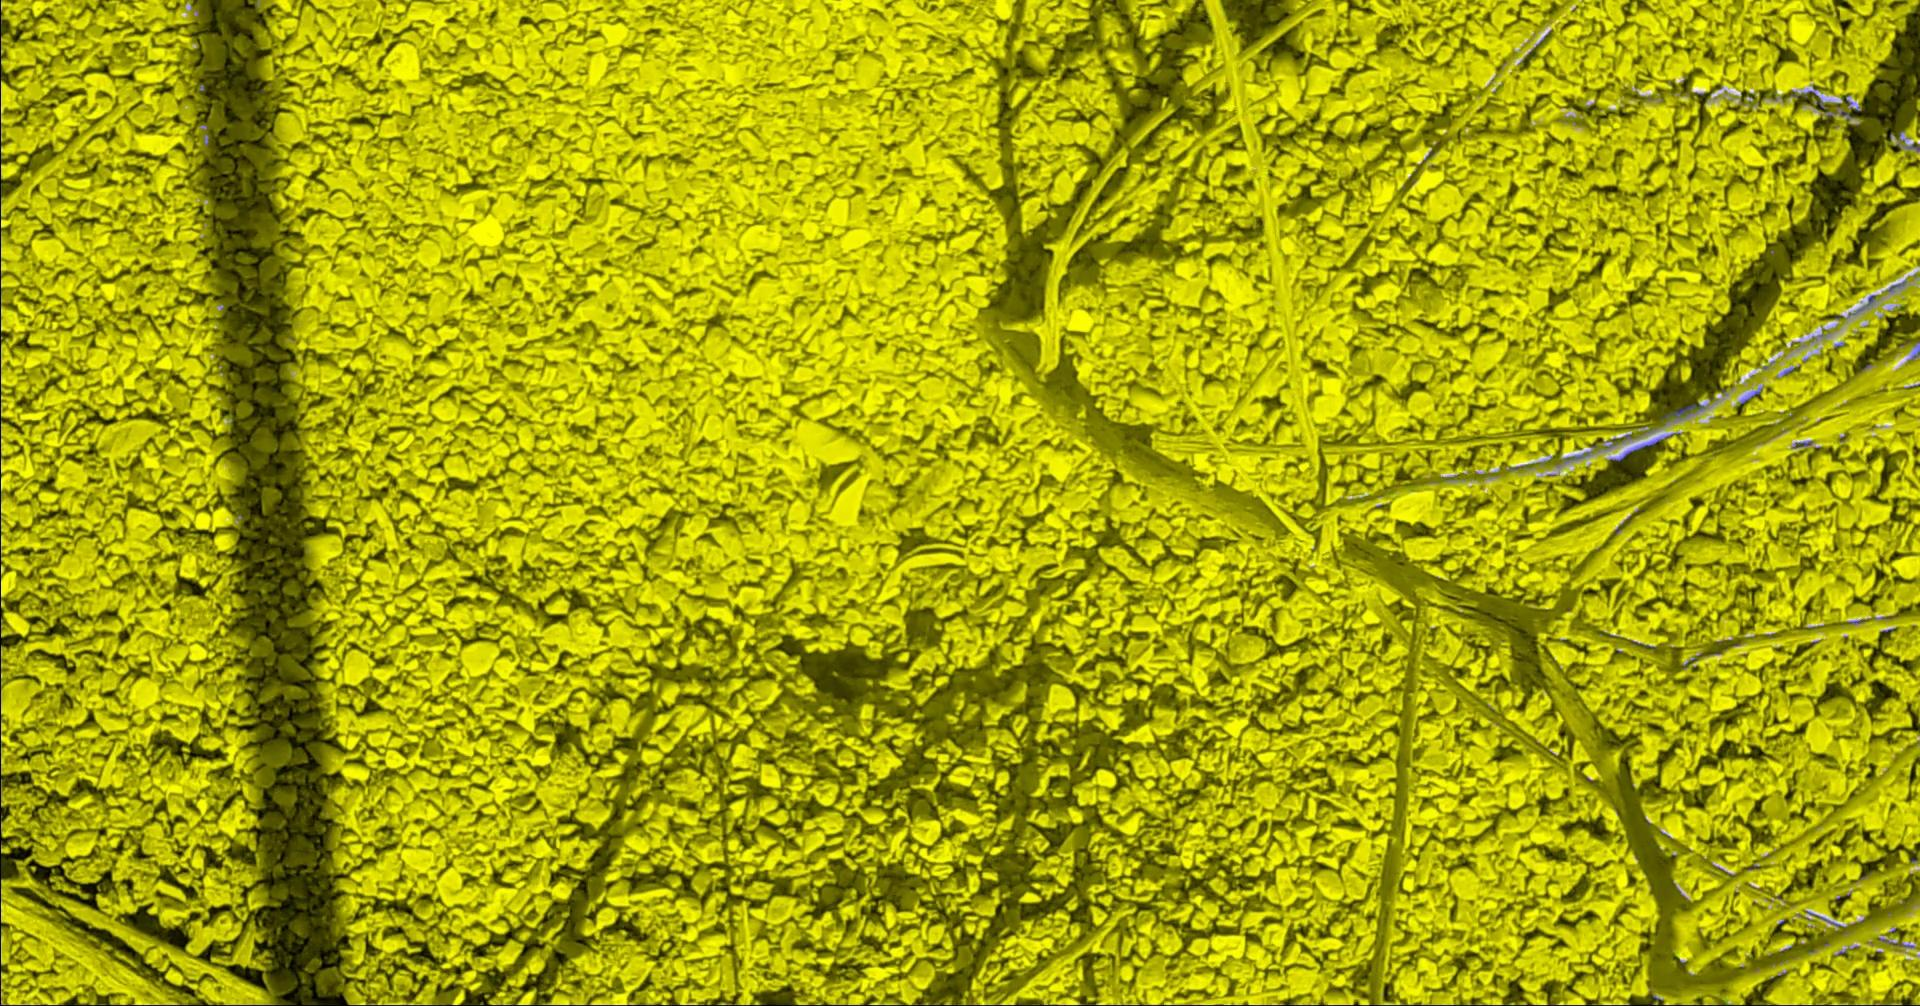ant: (1608, 438, 1663, 461), (1661, 401, 1702, 420)
